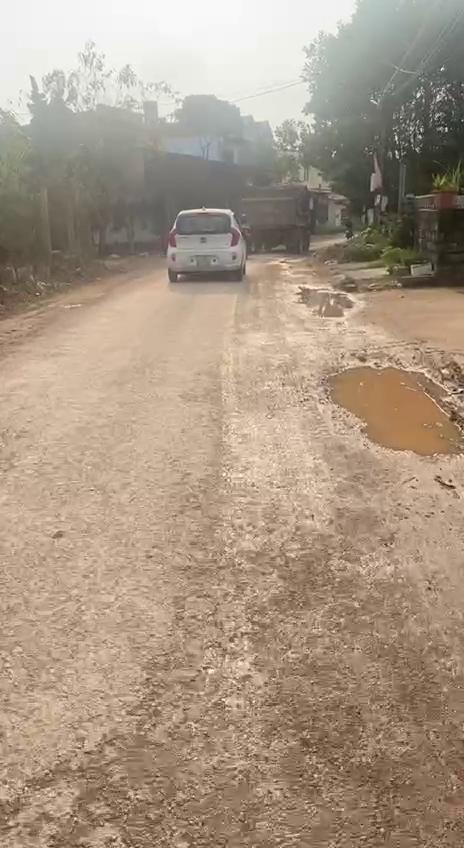pothole: (313, 354, 464, 458), (294, 283, 356, 322)
